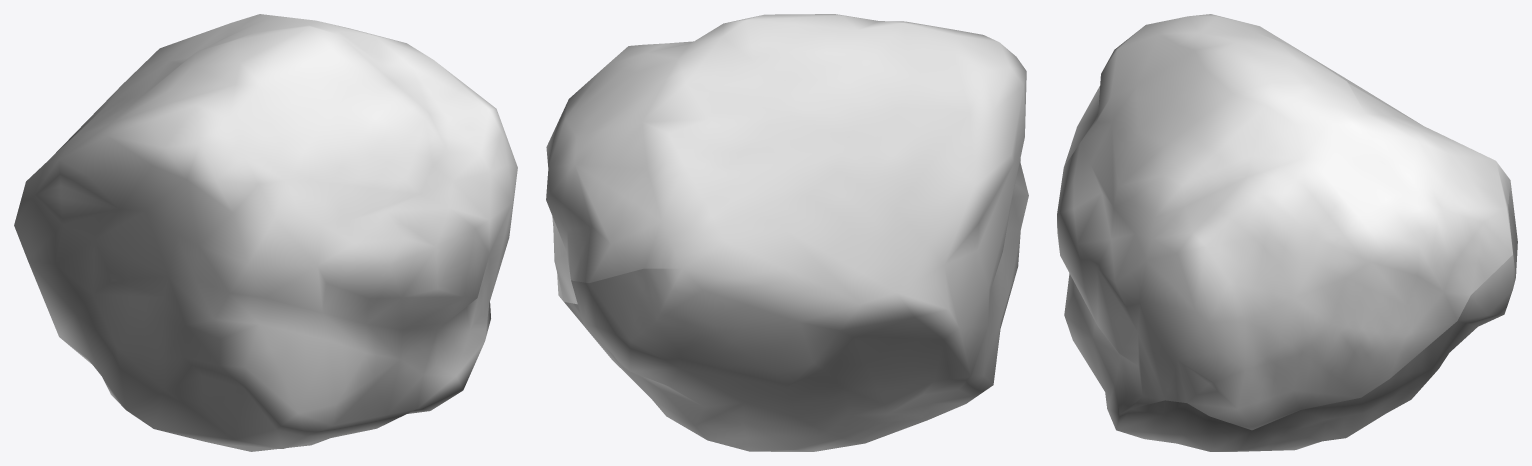
File: Mesh_RockSmall_A.fbx
3 views of the same model, side by side, from view 1: azimuth 30°, elevation 25°; view 2: azimuth 150°, elevation 25°; view 3: azimuth 270°, elevation 25° (orthographic). The views are drawn at different scales.
Visible parts, largest first — view 1: SM_RockSmall_A_LOD0; view 2: SM_RockSmall_A_LOD0; view 3: SM_RockSmall_A_LOD0.
Part boxes in pixels (box(x1,y1,x2,y2)): SM_RockSmall_A_LOD0: box(14, 14, 517, 451); SM_RockSmall_A_LOD0: box(546, 14, 1028, 451); SM_RockSmall_A_LOD0: box(1057, 14, 1517, 451).
Bounding box in the file's own units: 31.81 × 31.27 × 27.8.
1 material, 1 textured.
